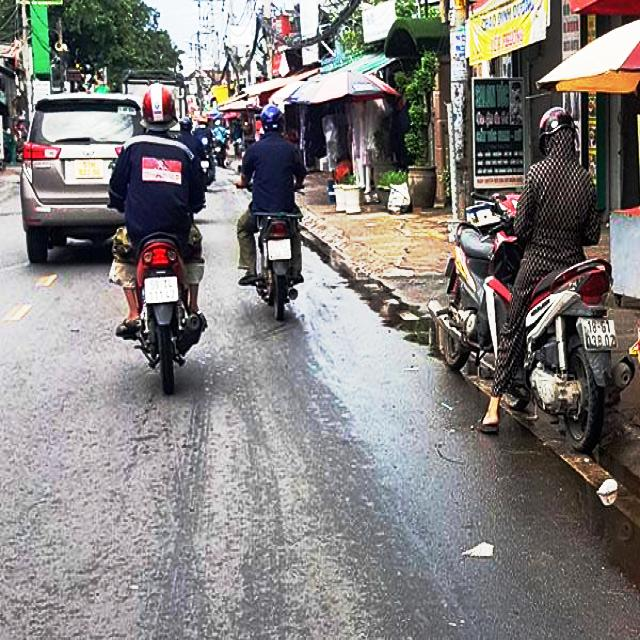license_plate: (582, 318, 621, 351), (146, 277, 179, 304)
